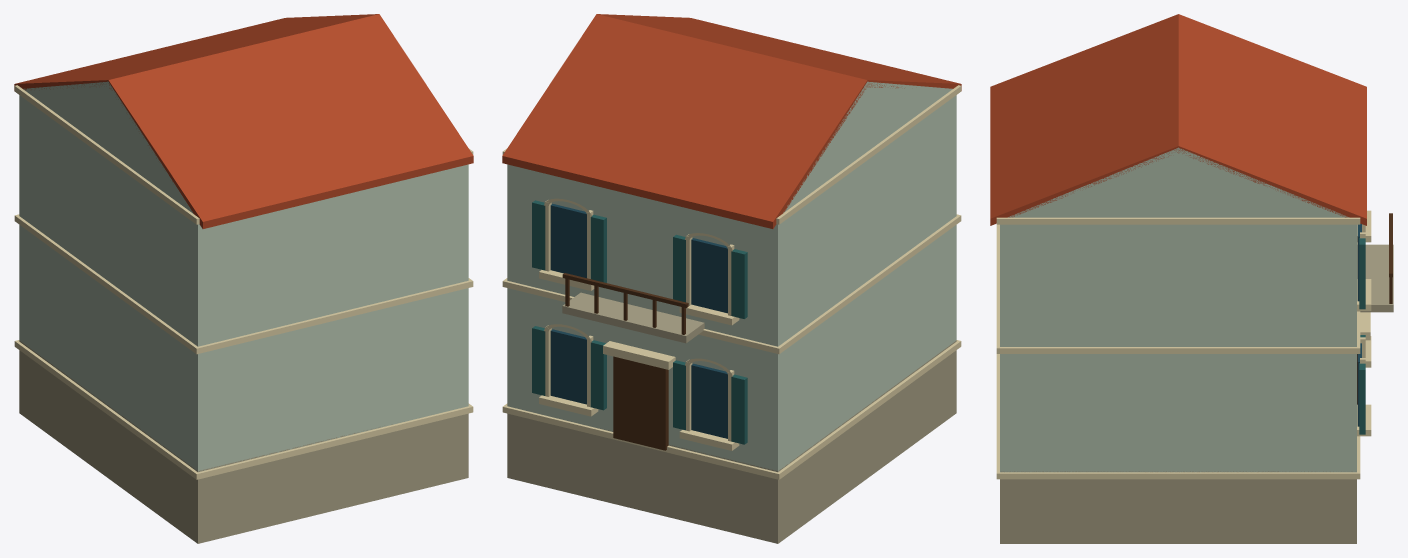
The model's file is harbour_house.glb.
The picture shows the model from 3 angles, left to right: view 1: azimuth 30°, elevation 25°; view 2: azimuth 150°, elevation 25°; view 3: azimuth 270°, elevation 25°; orthographic projection.
Visible parts, largest first — view 1: House; view 2: House; view 3: House.
Part boxes in pixels (bbox=[...]): House: bbox=[14, 14, 473, 543]; House: bbox=[502, 14, 961, 543]; House: bbox=[990, 14, 1393, 543].
Bounding box in the file's own units: 7.15 × 9.84 × 9.04.
